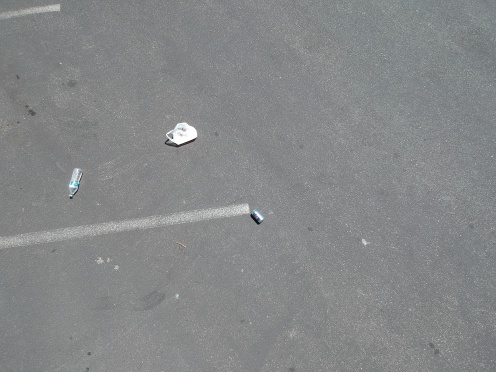bottle: (62, 163, 88, 203)
can: (248, 208, 266, 226)
plastic bag: (162, 119, 202, 147)
